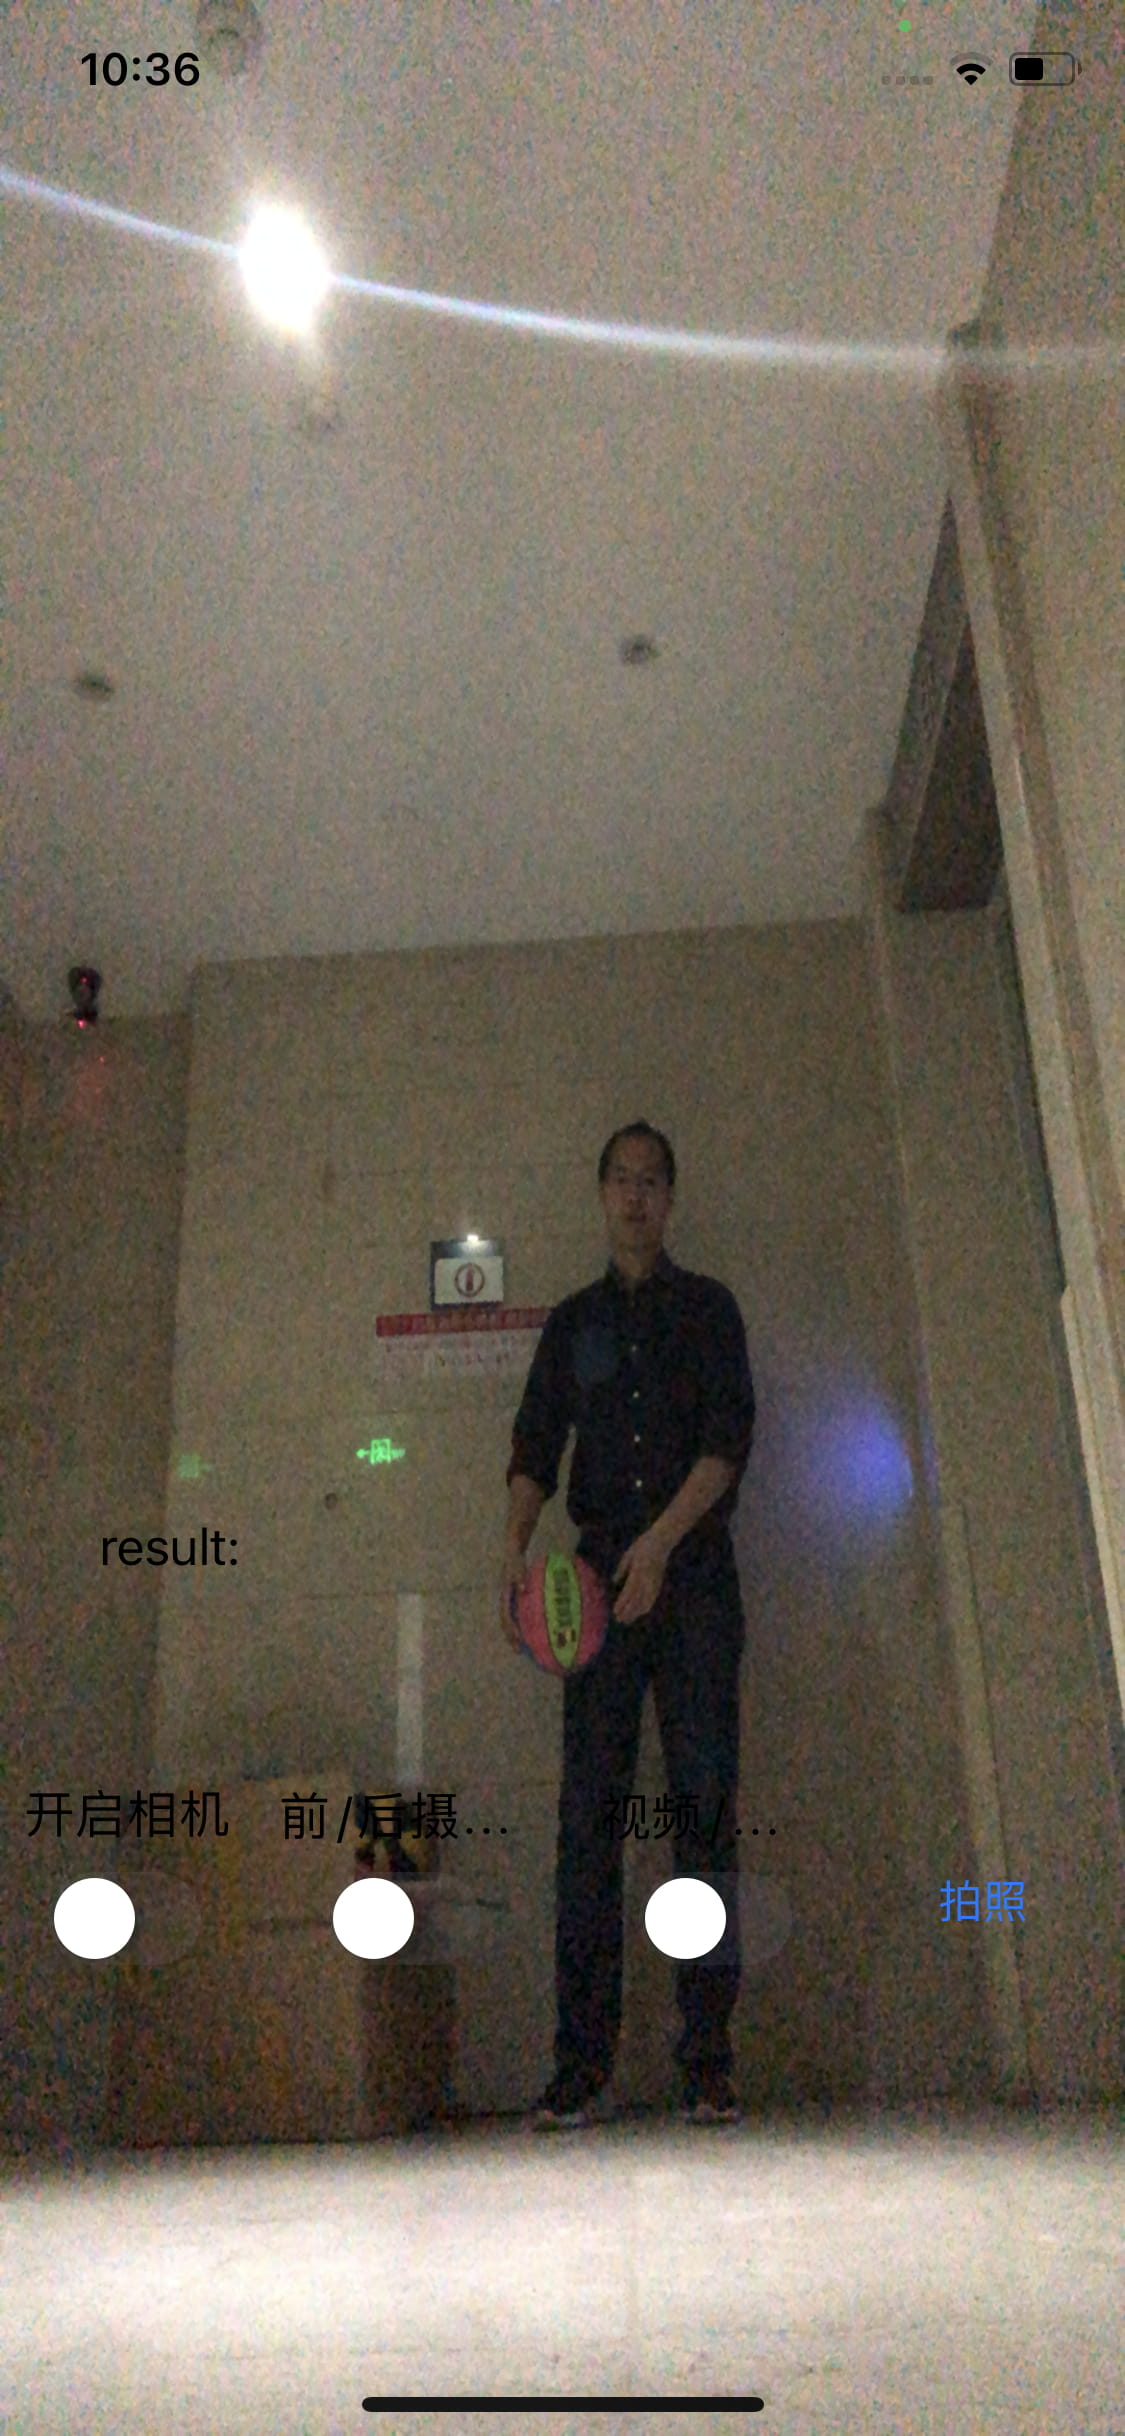ball: (510, 1549, 614, 1673)
